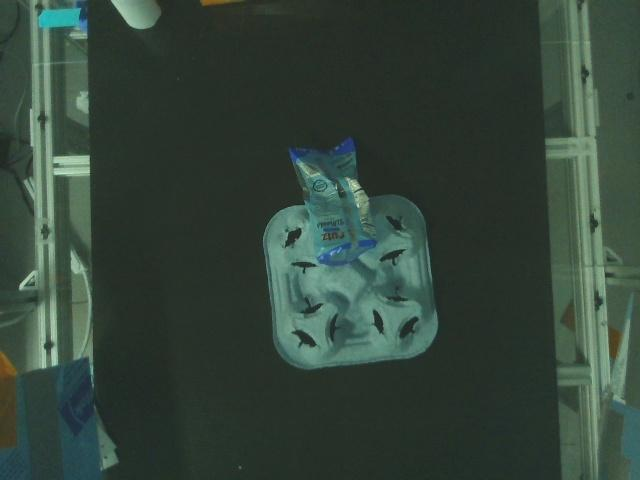cardboard: (259, 190, 441, 374), (108, 0, 166, 32), (195, 0, 246, 9)
plastic: (285, 133, 380, 270)
